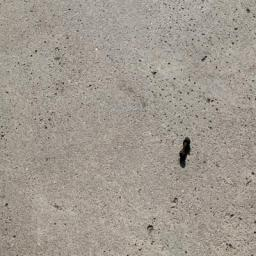FOD: (177, 134, 195, 169)
